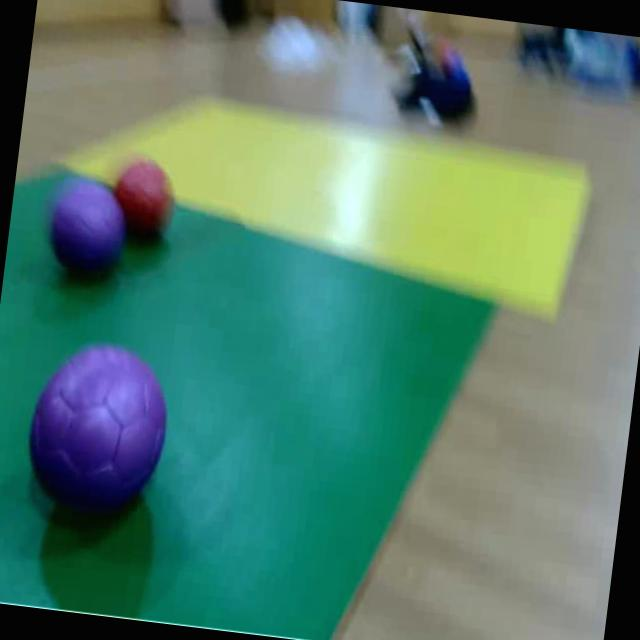purple_ball: (14, 328, 181, 538), (41, 176, 120, 290)
red_ball: (116, 154, 180, 249)
